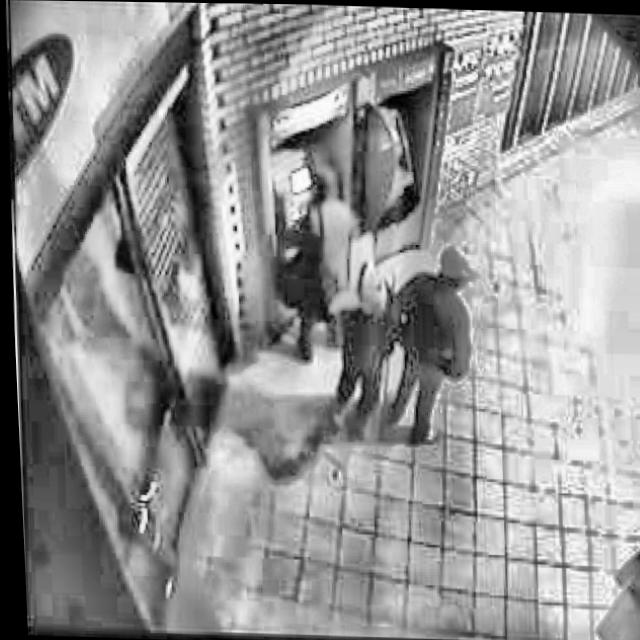burglary: (260, 88, 481, 450)
